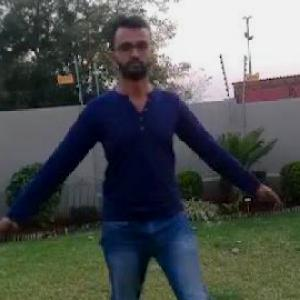land: (8, 53, 242, 299)
